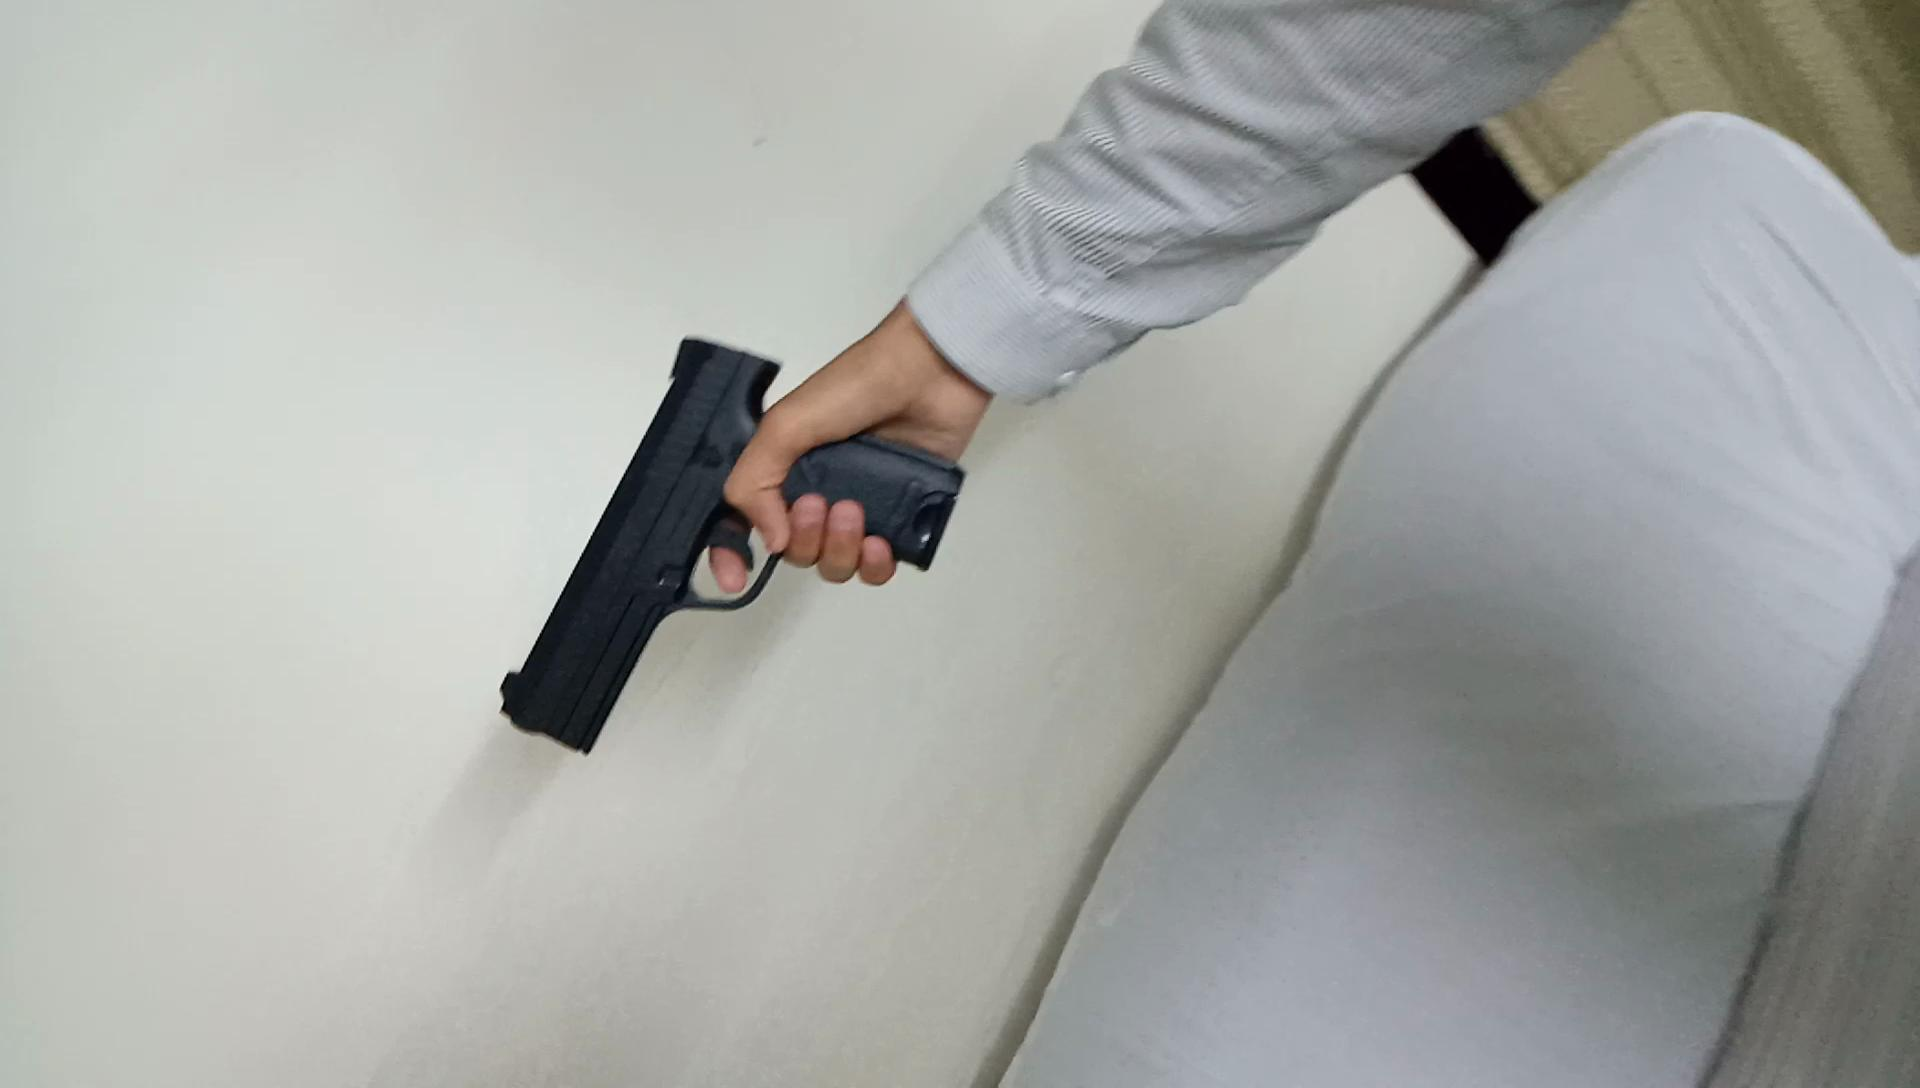weapon: (485, 323, 975, 768)
